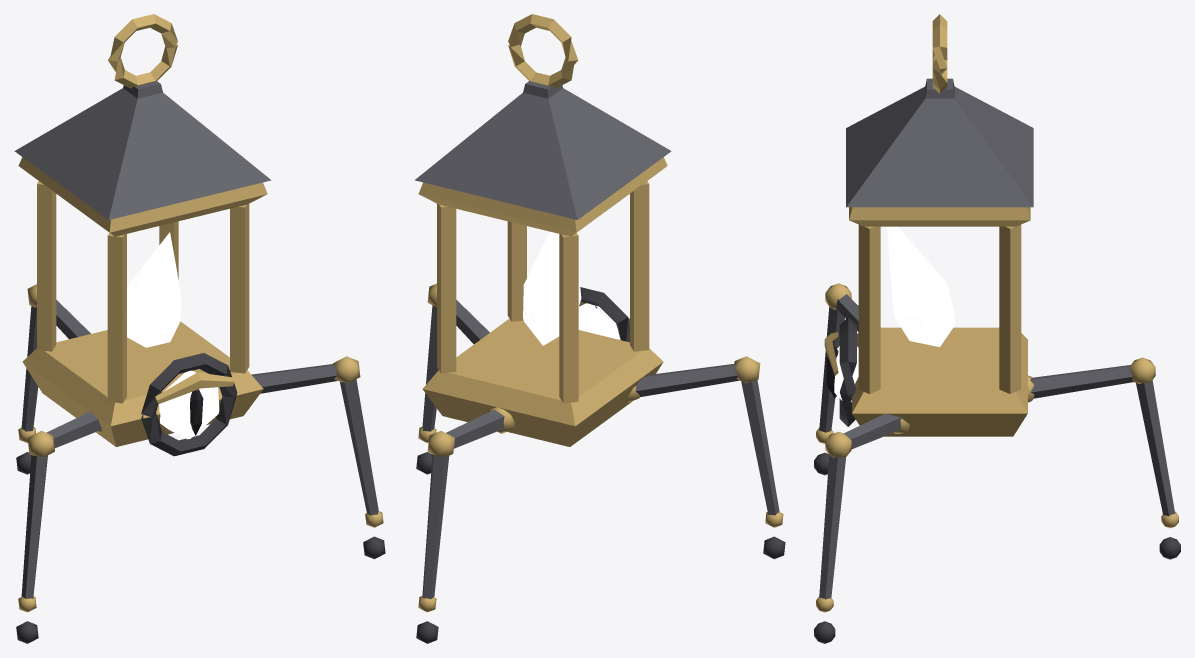
The model's file is lantern-little.glb.
The picture shows the model from 3 angles, left to right: view 1: azimuth 30°, elevation 25°; view 2: azimuth 150°, elevation 25°; view 3: azimuth 270°, elevation 25°; orthographic projection.
Visible parts, largest first — view 1: lantern_little; view 2: lantern_little; view 3: lantern_little.
Part boxes in pixels (x1=…): lantern_little: x1=14, y1=14, x2=385, y2=643; lantern_little: x1=415, y1=14, x2=785, y2=643; lantern_little: x1=814, y1=14, x2=1180, y2=643.
Bounding box in the file's own units: 0.5784 × 0.8184 × 0.5035.
